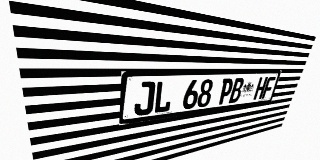6: (182, 79, 201, 110)
8: (196, 79, 215, 108)
B: (228, 78, 245, 103)
F: (261, 77, 276, 99)
H: (253, 77, 268, 100)
J: (133, 81, 156, 116)
L: (153, 80, 174, 114)
P: (217, 78, 234, 105)
